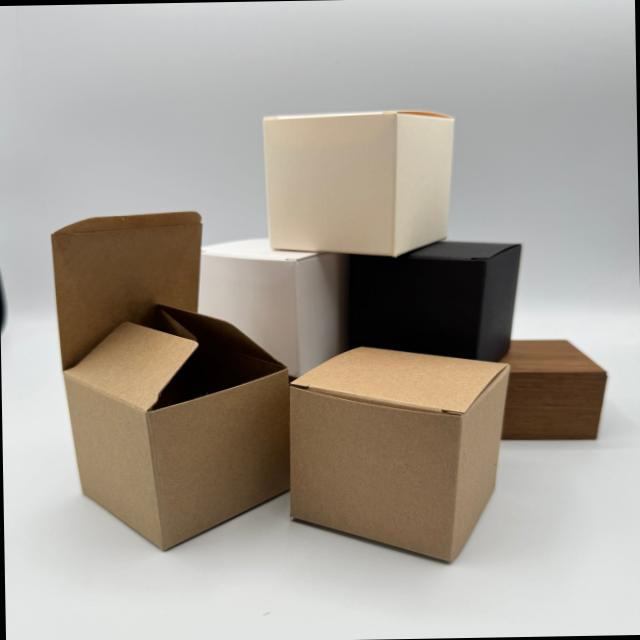cardboard_box: (36, 201, 328, 596), (268, 321, 524, 593), (251, 105, 477, 269)
